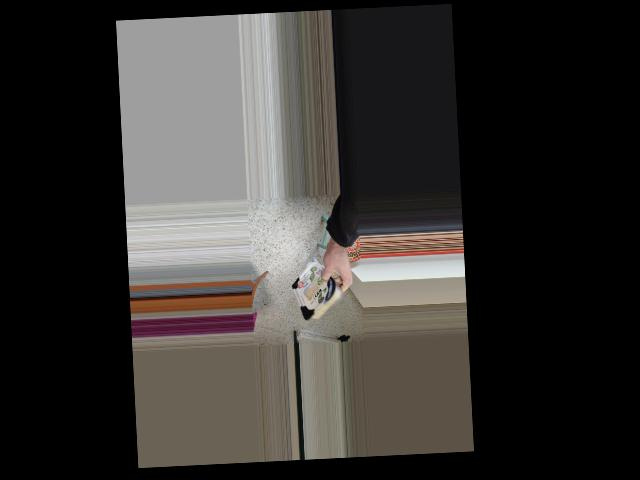cheese: (283, 263, 359, 321)
